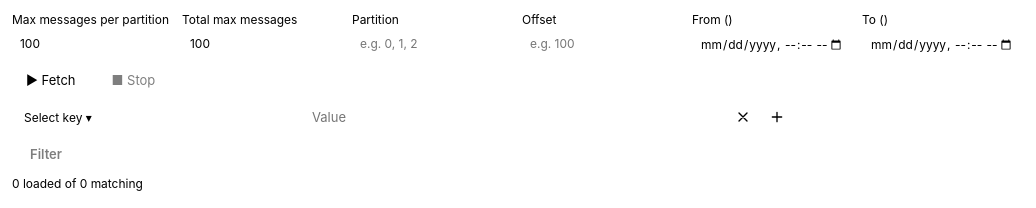
Test case: DataTab › disables every filter input, and the payload checkbox, while a fetch is in progress
Click the button "▶ Fetch". click: (51, 80)
box: [12,66,90,94]
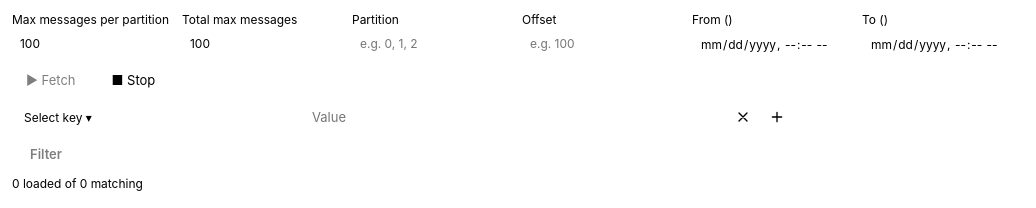
Check: the field labelled "Max messages per partition" is disabled, box [12,31,172,56]
Check: the field labelled "From ()" is disabled, box [692,31,852,58]
Check: the field labelled "To ()" is disabled, box [862,31,1022,58]
